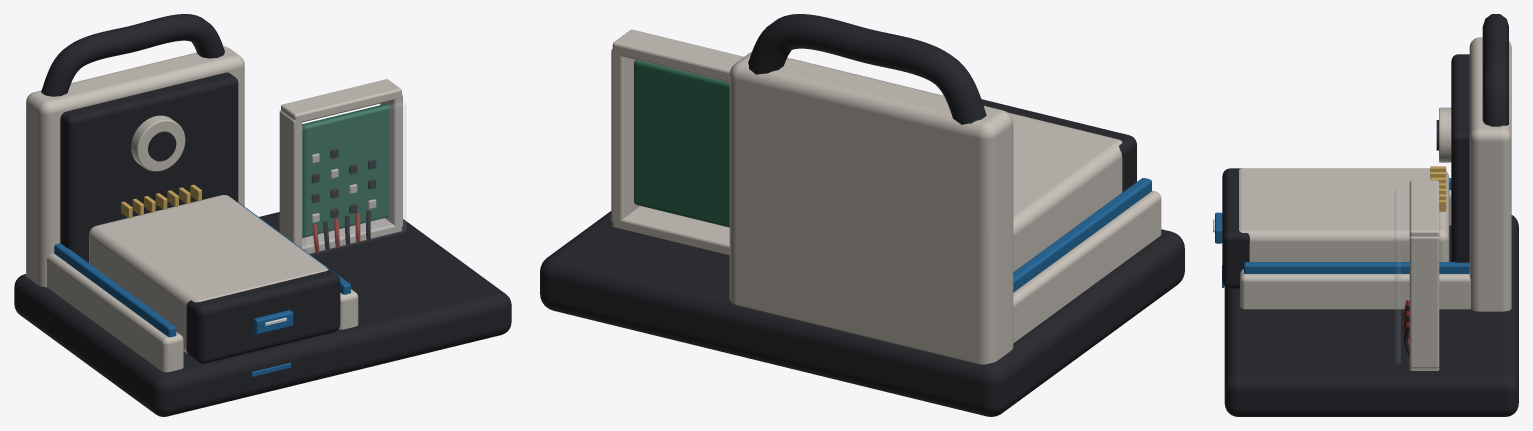
The model's file is anatomy-47.glb.
3 views of the same model, side by side, from view 1: azimuth 30°, elevation 25°; view 2: azimuth 150°, elevation 25°; view 3: azimuth 270°, elevation 25° (orthographic). The views are drawn at different scales.
Parts seen in each view (by area): view 1: shell, pack, panel, board, rails, handle, connector, pins, wiring, release; view 2: shell, board, pack, rails, panel, handle; view 3: shell, pack, rails, panel, handle, connector, pins, wiring.
Boxes of the visible parts, bbox=[...] form: shell: bbox=[14, 46, 511, 416]; pack: bbox=[89, 195, 340, 363]; panel: bbox=[279, 79, 405, 254]; board: bbox=[302, 104, 389, 237]; rails: bbox=[47, 202, 358, 372]; handle: bbox=[41, 14, 224, 96]; connector: bbox=[131, 115, 185, 171]; pins: bbox=[121, 184, 201, 218]; wiring: bbox=[312, 211, 371, 252]; release: bbox=[253, 310, 293, 334]; shell: bbox=[540, 52, 1184, 416]; board: bbox=[634, 60, 729, 227]; pack: bbox=[981, 99, 1136, 271]; rails: bbox=[1013, 178, 1161, 343]; panel: bbox=[611, 29, 743, 255]; handle: bbox=[748, 14, 986, 124]; shell: bbox=[1224, 37, 1518, 416]; pack: bbox=[1222, 168, 1449, 288]; rails: bbox=[1240, 178, 1470, 309]; panel: bbox=[1395, 180, 1439, 370]; handle: bbox=[1482, 14, 1508, 126]; connector: bbox=[1436, 107, 1451, 162]; pins: bbox=[1430, 166, 1446, 211]; wiring: bbox=[1403, 300, 1409, 355].
Size of the model in its own units: 2.13 by 1.53 by 1.6.
